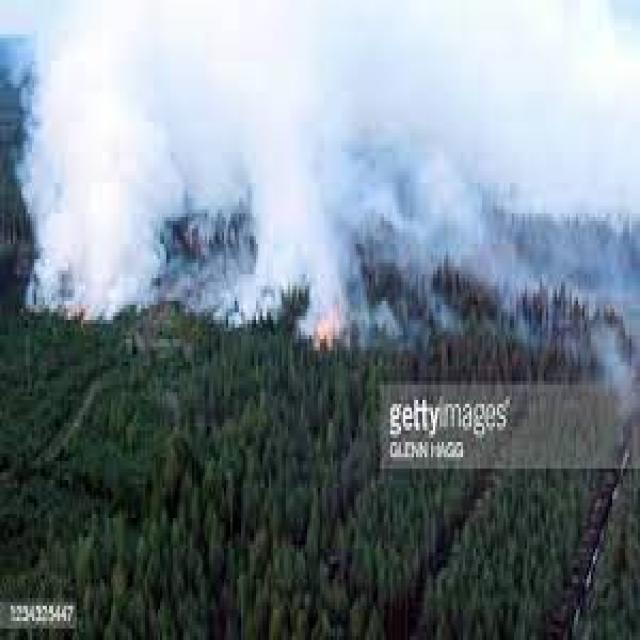Fire: (270, 282, 368, 368)
Smoke: (365, 0, 546, 341), (10, 0, 183, 321), (216, 0, 366, 343), (478, 0, 640, 293)
